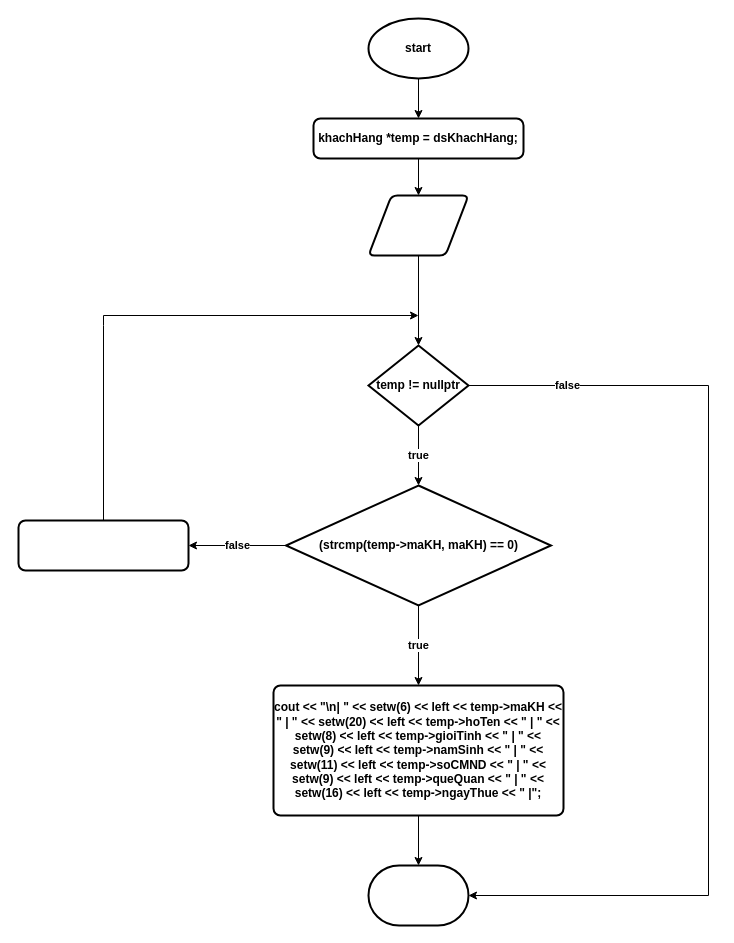
Some shapes in this 734 by 943 pixel diagram are drawn without their labels. Each missing label, with the centre of its shape:
"end" goes at (x=418, y=895).
"Nhập mã" goes at (x=418, y=225).
"temp = temp->next" goes at (x=103, y=545).
